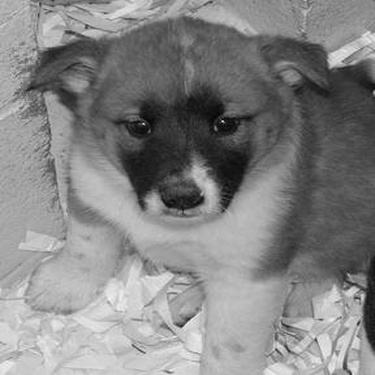dog: (17, 18, 372, 373)
